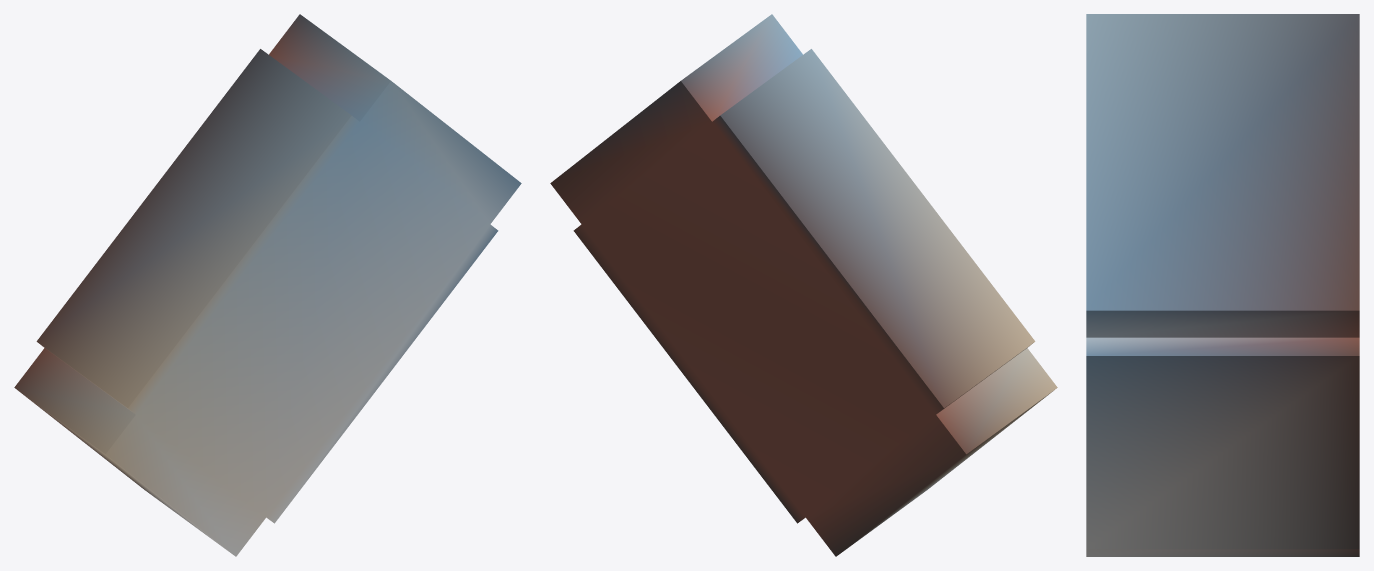
The model's file is RealityModel.obj.
3 renders of one model, left to right at view 1: azimuth 30°, elevation 25°; view 2: azimuth 150°, elevation 25°; view 3: azimuth 270°, elevation 25°, orthographic. The views are drawn at different scales.
Parts seen in each view (by area): view 1: default; view 2: default; view 3: default.
Part boxes in pixels (left/top/right/bottom): default: left=14, top=14, right=521, bottom=556; default: left=550, top=14, right=1057, bottom=556; default: left=1086, top=14, right=1359, bottom=556.
Bounding box in the file's own units: 31.08 × 31.28 × 11.81.
